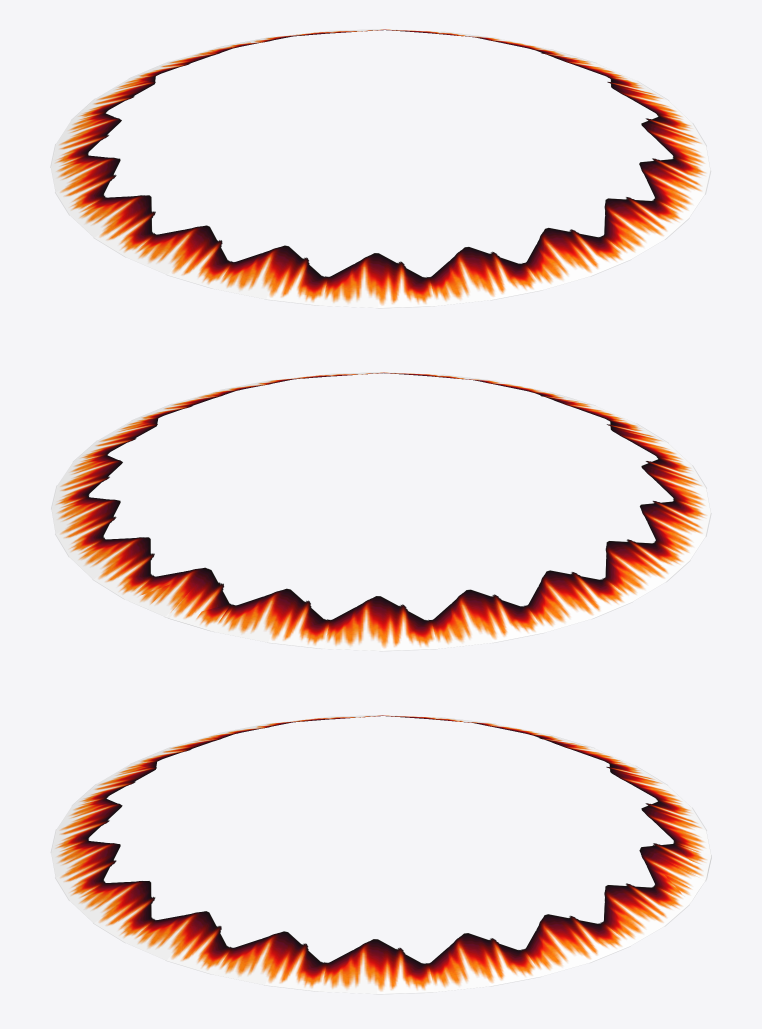
Rendered from stomp_wave.glb.
3 views of the same model, one above another, from view 1: azimuth 30°, elevation 25°; view 2: azimuth 150°, elevation 25°; view 3: azimuth 270°, elevation 25° (orthographic).
Parts seen in each view (by area): view 1: object_000; view 2: object_000; view 3: object_000.
Part boxes in pixels (x1,y1,x2,y2): object_000: [50, 29, 710, 308]; object_000: [51, 372, 711, 651]; object_000: [51, 715, 711, 994].
Bounding box in the file's own units: 1935 × 92 × 1908.
1 material, 1 textured.
